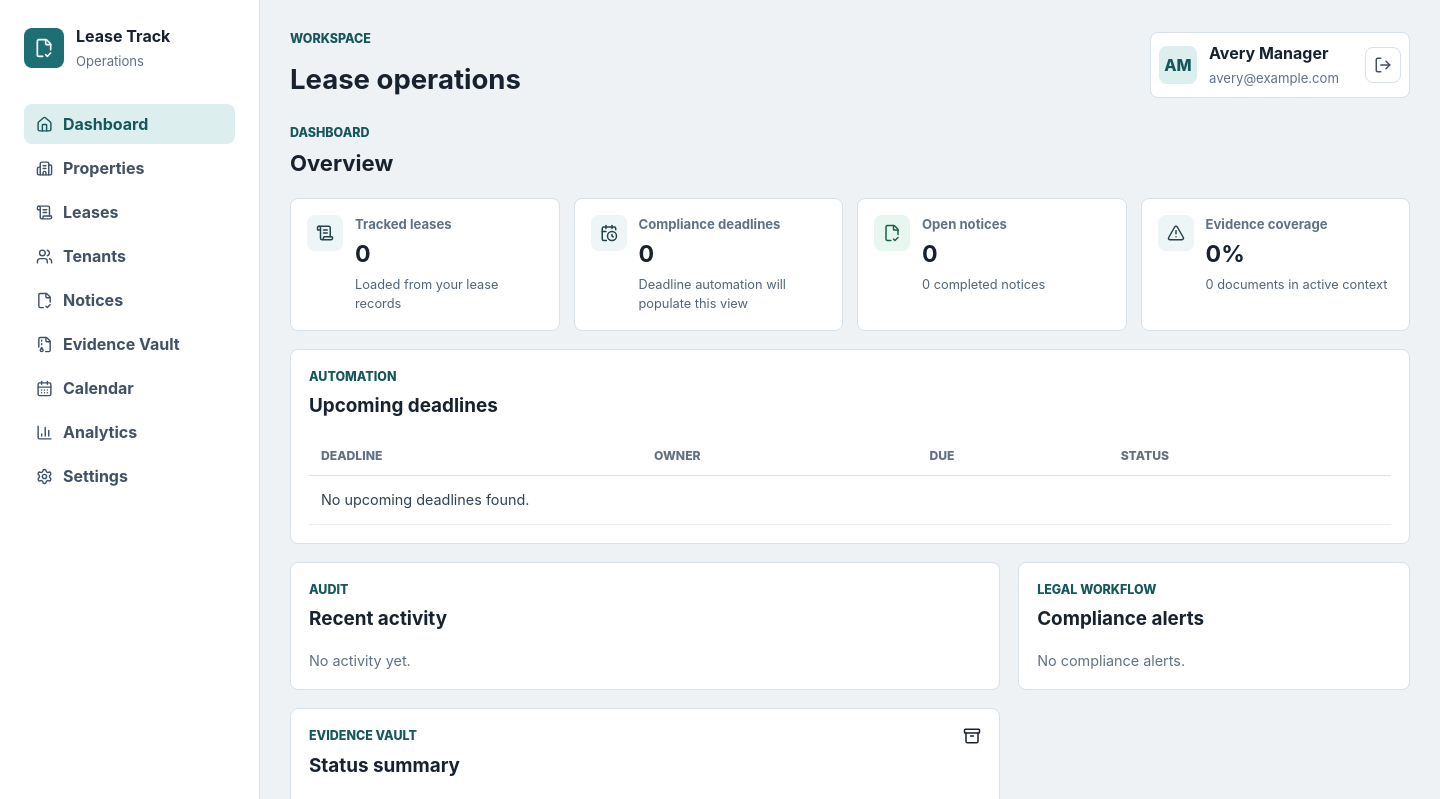
Test: App auth routes › loads the workspace dashboard without legacy lease panels
Check: the heading "Lease operations" is shown, box x1=290 y1=59 x2=521 y2=100
Check: the heading "Property management" is not shown
What coordinates should you click on to do the following:
click the link "Properties"
I would click on:
 (90, 168)
Its box is x1=36 y1=158 x2=144 y2=178.
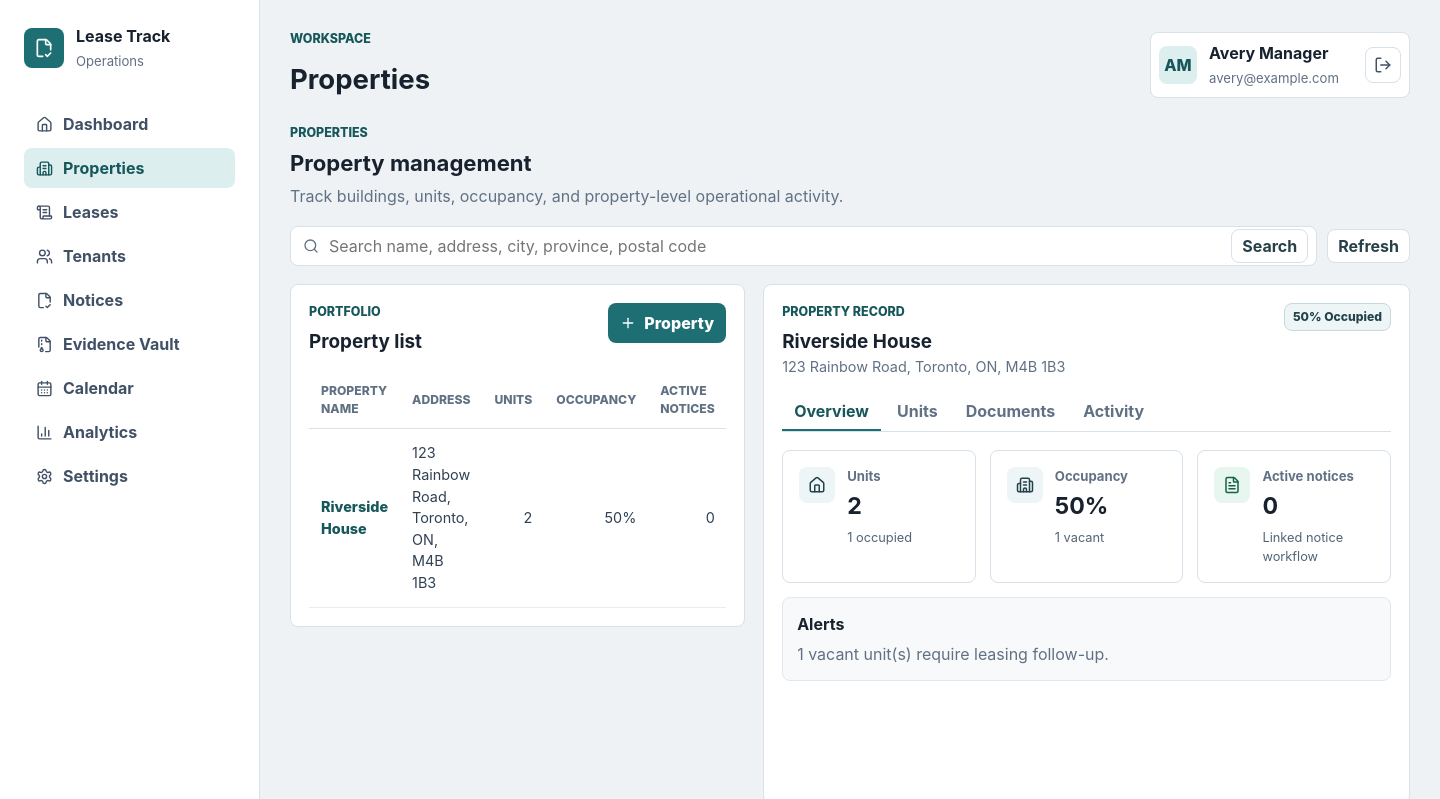
Check: the heading "Property management" is shown, box x1=290 y1=150 x2=532 y2=176
